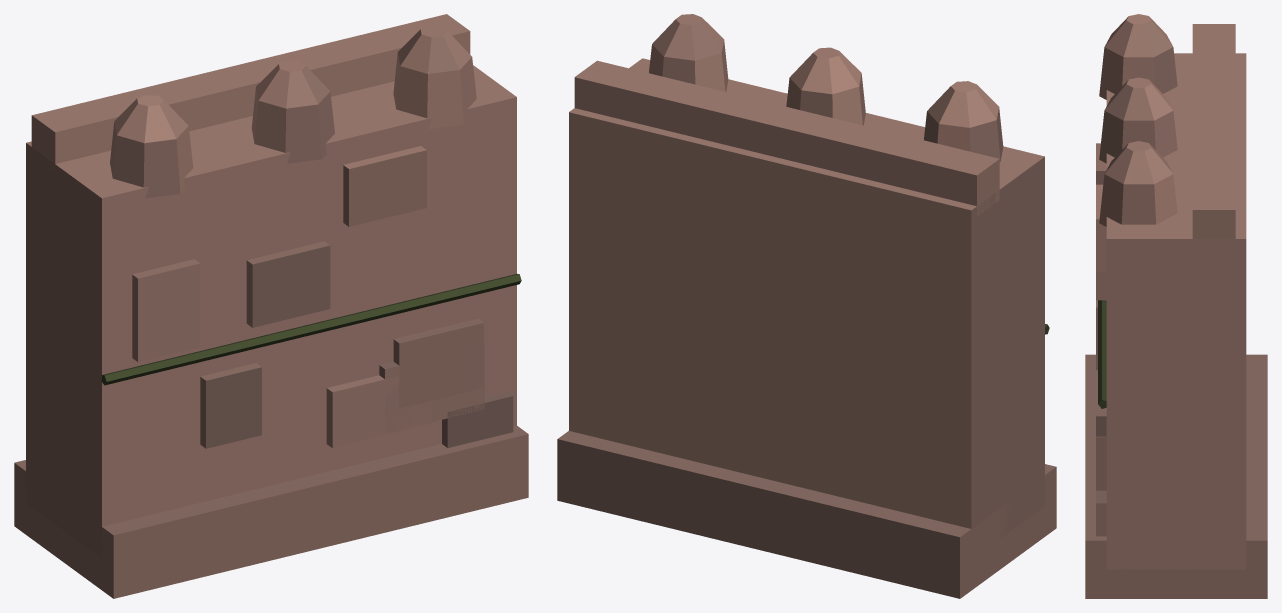
Rendered from reef_wall.glb.
The picture shows the model from 3 angles, left to right: view 1: azimuth 30°, elevation 25°; view 2: azimuth 150°, elevation 25°; view 3: azimuth 270°, elevation 25°; orthographic projection. The views are drawn at different scales.
Visible parts, largest first — view 1: reef_wall; view 2: reef_wall; view 3: reef_wall.
Boxes of the visible parts, bbox=[...] form: reef_wall: bbox=[14, 14, 528, 598]; reef_wall: bbox=[557, 14, 1056, 598]; reef_wall: bbox=[1085, 14, 1267, 598].
Bounding box in the file's own units: 4.1 × 4.35 × 1.7.
1 material, 1 textured.
